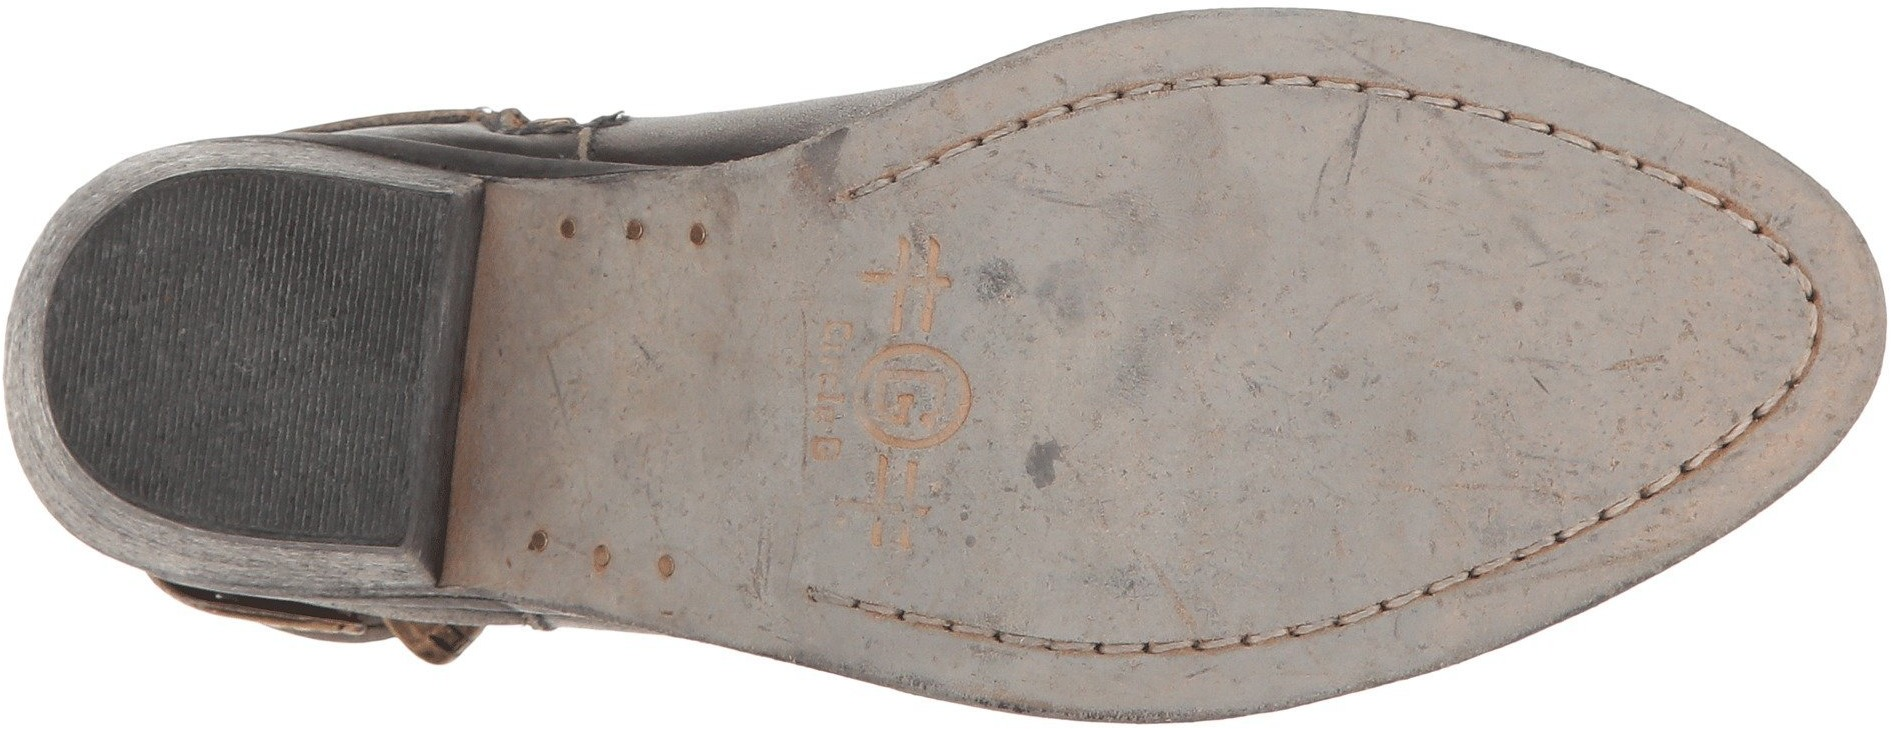other: (111, 208, 404, 501), (1024, 164, 1322, 442), (1323, 153, 1596, 438), (1002, 463, 1201, 641), (1602, 235, 1770, 414), (1213, 447, 1378, 589)
